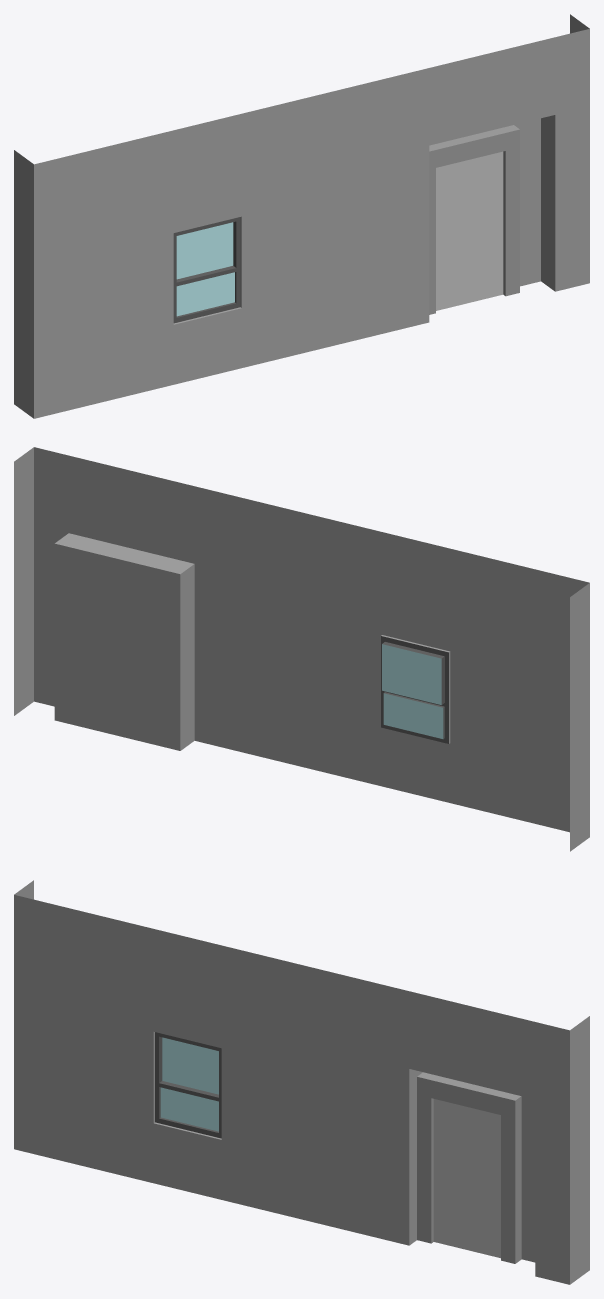
The model's file is SmallWindowAndDoor.fbx.
3 renders of one model, top to bottom at view 1: azimuth 30°, elevation 25°; view 2: azimuth 150°, elevation 25°; view 3: azimuth 330°, elevation 25°, orthographic.
Visible parts, largest first — view 1: SmallWindowAndDoor; view 2: SmallWindowAndDoor; view 3: SmallWindowAndDoor.
Part boxes in pixels (x1,y1,x2,y2): SmallWindowAndDoor: (14,14,589,418); SmallWindowAndDoor: (14,447,589,851); SmallWindowAndDoor: (14,880,589,1284).
Size of the model in its own units: 800 by 350 by 50.
